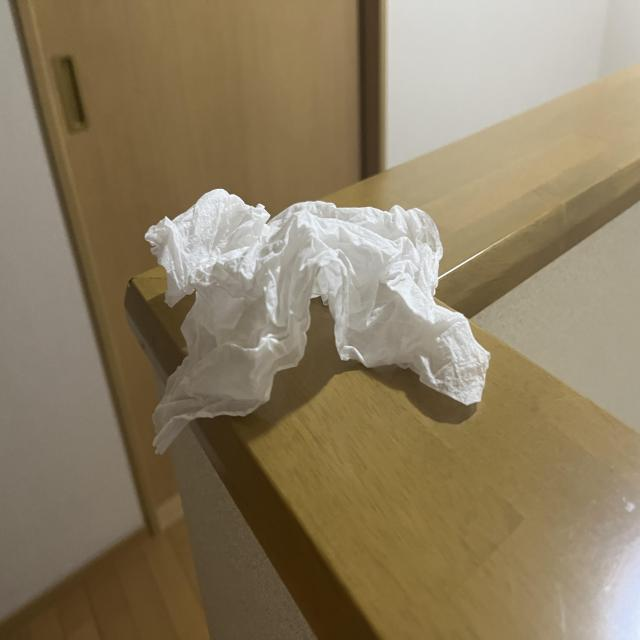Paper: (148, 180, 492, 437)
